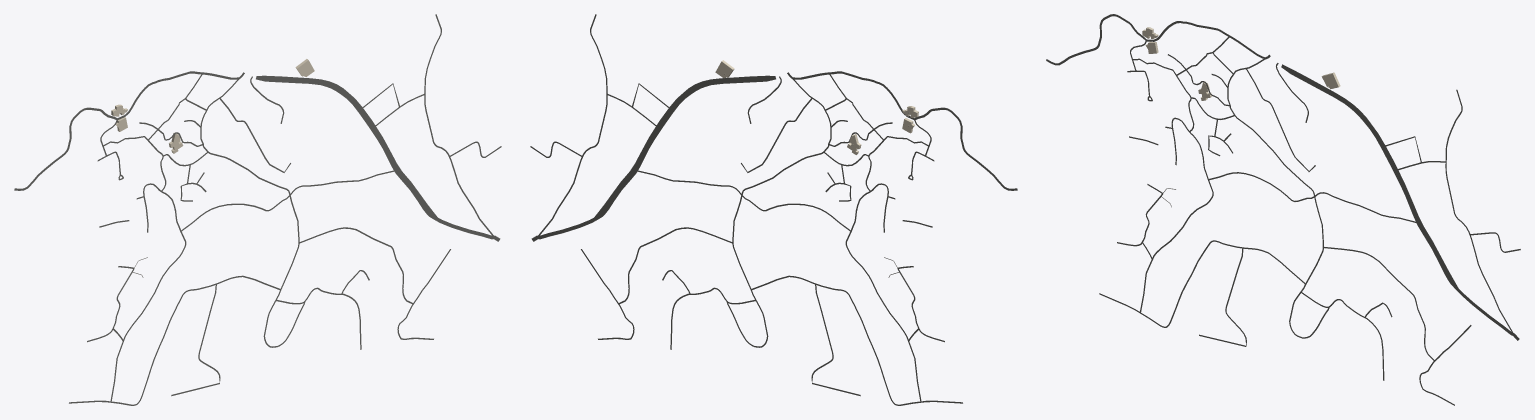
Rendered from historic-palestine-11_30_3528_3240.glb.
The picture shows the model from 3 angles, left to right: view 1: azimuth 30°, elevation 25°; view 2: azimuth 150°, elevation 25°; view 3: azimuth 330°, elevation 25°; orthographic projection. The views are drawn at different scales.
Parts seen in each view (by area): view 1: Road .023, Road .024, Road .003, Road, Road .004, Road .007, Road .002, Road .006; view 2: Road .023, Road .024, Road, Road .003, Road .004, Road .007, Road .002, Road .006; view 3: Road .023, Road .024, Road, Road .003, Road .004, Road .002, Road .007, Road .006.
Boxes of the visible parts, left/top/right/bottom form: Road .023: left=256, top=75, right=437, bottom=219; Road .024: left=256, top=77, right=436, bottom=220; Road .003: left=14, top=71, right=244, bottom=190; Road: left=200, top=79, right=305, bottom=347; Road .004: left=69, top=275, right=280, bottom=405; Road .007: left=110, top=183, right=186, bottom=401; Road .002: left=424, top=14, right=493, bottom=236; Road .006: left=181, top=168, right=398, bottom=231; Road .023: left=594, top=75, right=775, bottom=219; Road .024: left=594, top=76, right=775, bottom=220; Road: left=726, top=78, right=831, bottom=347; Road .003: left=787, top=71, right=1017, bottom=190; Road .004: left=751, top=275, right=962, bottom=405; Road .007: left=845, top=183, right=921, bottom=401; Road .002: left=538, top=14, right=607, bottom=236; Road .006: left=633, top=168, right=850, bottom=231; Road .023: left=1281, top=64, right=1458, bottom=289; Road .024: left=1281, top=65, right=1458, bottom=290; Road: left=1227, top=58, right=1329, bottom=338; Road .003: left=1046, top=14, right=1270, bottom=65; Road .004: left=1099, top=240, right=1305, bottom=327; Road .002: left=1445, top=89, right=1513, bottom=332; Road .007: left=1139, top=117, right=1213, bottom=312; Road .006: left=1208, top=172, right=1419, bottom=223.
Bounding box in the file's own units: 1189 × 765 × 8.7.
